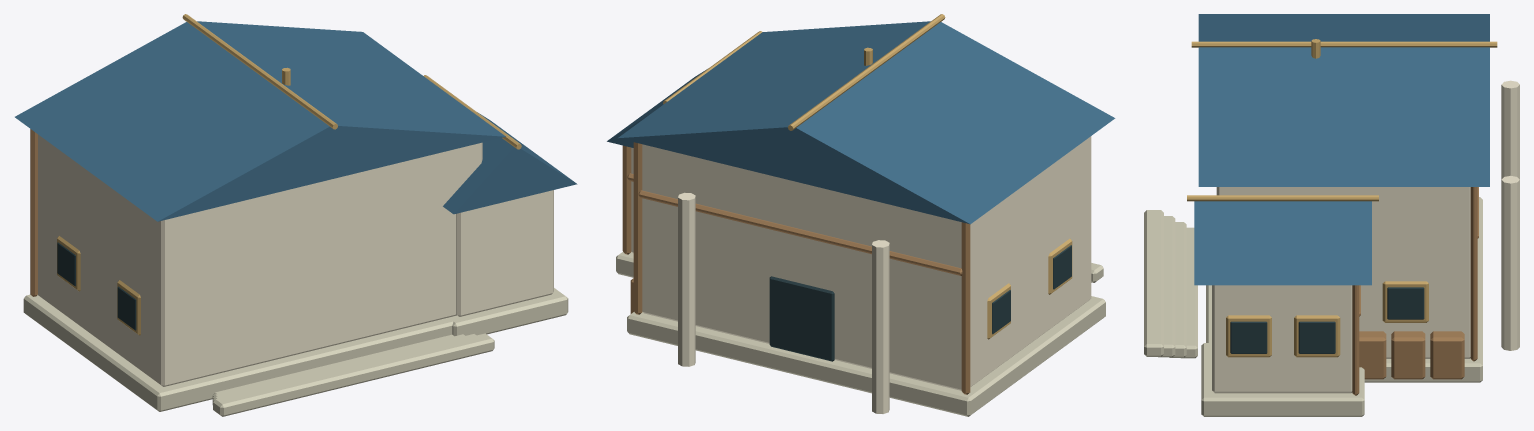
Rendered from level_27.glb.
3 views of the same model, side by side, from view 1: azimuth 30°, elevation 25°; view 2: azimuth 150°, elevation 25°; view 3: azimuth 270°, elevation 25° (orthographic).
Visible parts, largest first — view 1: warehouse — level 27; view 2: warehouse — level 27; view 3: warehouse — level 27.
Part boxes in pixels (box(x1,y1,x2,y2)): warehouse — level 27: box(15, 14, 577, 416); warehouse — level 27: box(607, 14, 1115, 416); warehouse — level 27: box(1144, 14, 1519, 416).
Size of the model in its own units: 6.91 by 4.11 by 5.29.
